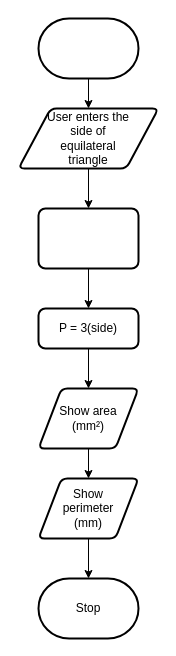
This 176x656 diagram has some shape labels left out. Here are the shapes that lost their labels. From the top down, the centre of each, then its label:
At point (88, 48): "Start".
At point (88, 238): "A = √3/4 (side²)".
